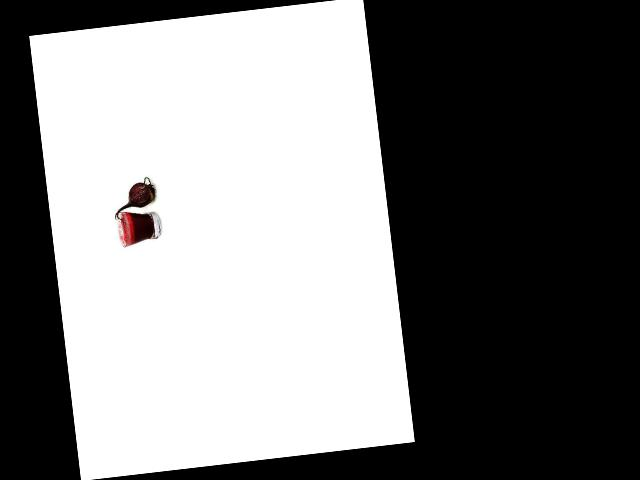beet: (111, 176, 159, 225)
